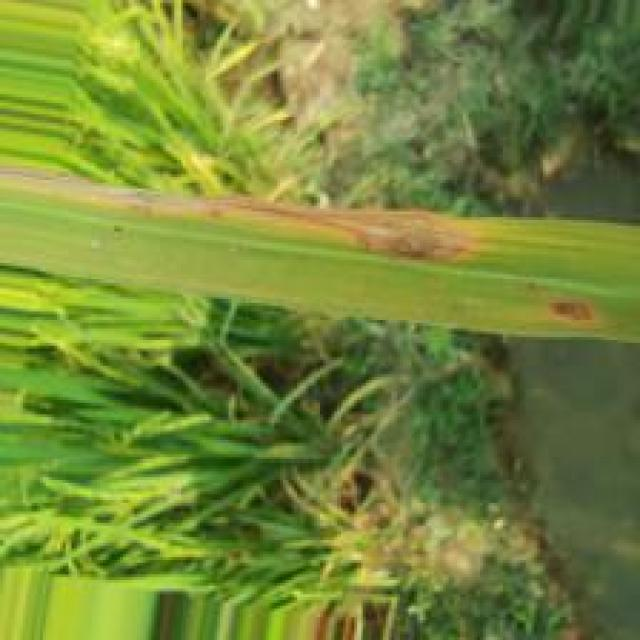Leaf_Blast: (65, 183, 506, 267), (544, 298, 601, 329)
